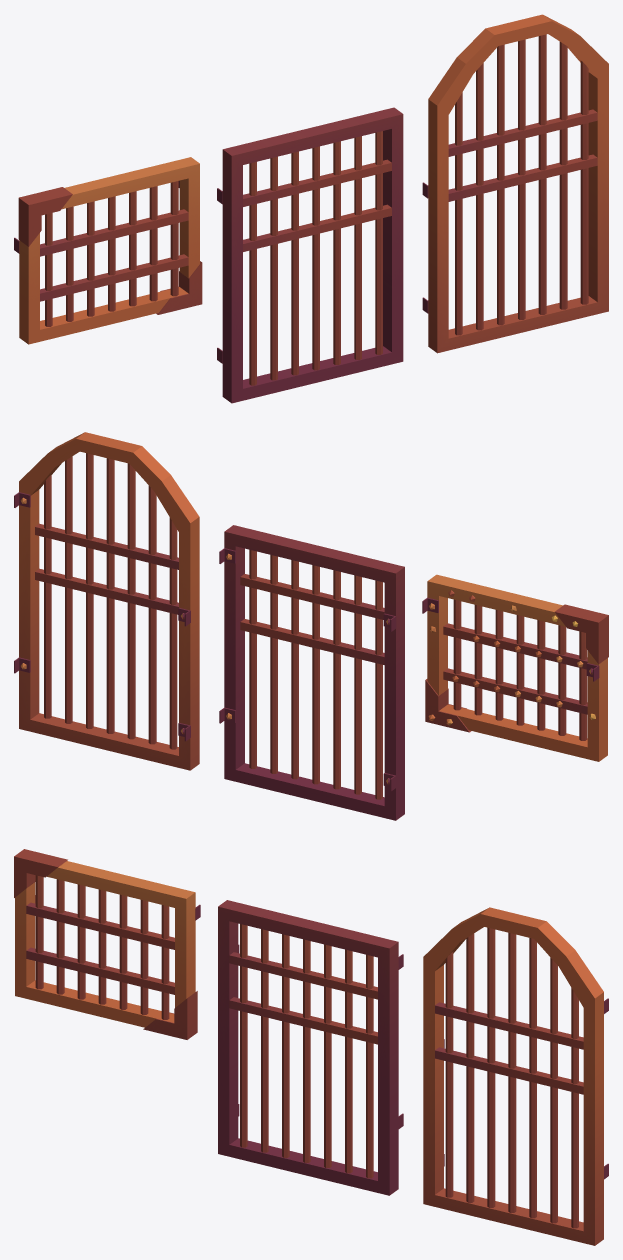
The model's file is MetalGrates.fbx.
3 views of the same model, one above another, from view 1: azimuth 30°, elevation 25°; view 2: azimuth 150°, elevation 25°; view 3: azimuth 330°, elevation 25° (orthographic).
Visible parts, largest first — view 1: Grate3, Grate2, Grate1; view 2: Grate3, Grate2, Grate1; view 3: Grate3, Grate2, Grate1.
Part boxes in pixels (x1,y1,x2,y2): Grate3: (422,14,608,353); Grate2: (217,107,403,403); Grate1: (14,157,202,344); Grate3: (14,432,199,770); Grate2: (219,525,404,820); Grate1: (422,574,608,761); Grate3: (423,907,608,1245); Grate2: (218,900,403,1195); Grate1: (14,849,200,1039).
Size of the model in its own units: 1201 by 601 by 53.13.
Materials: 1 (1 with a texture image).
